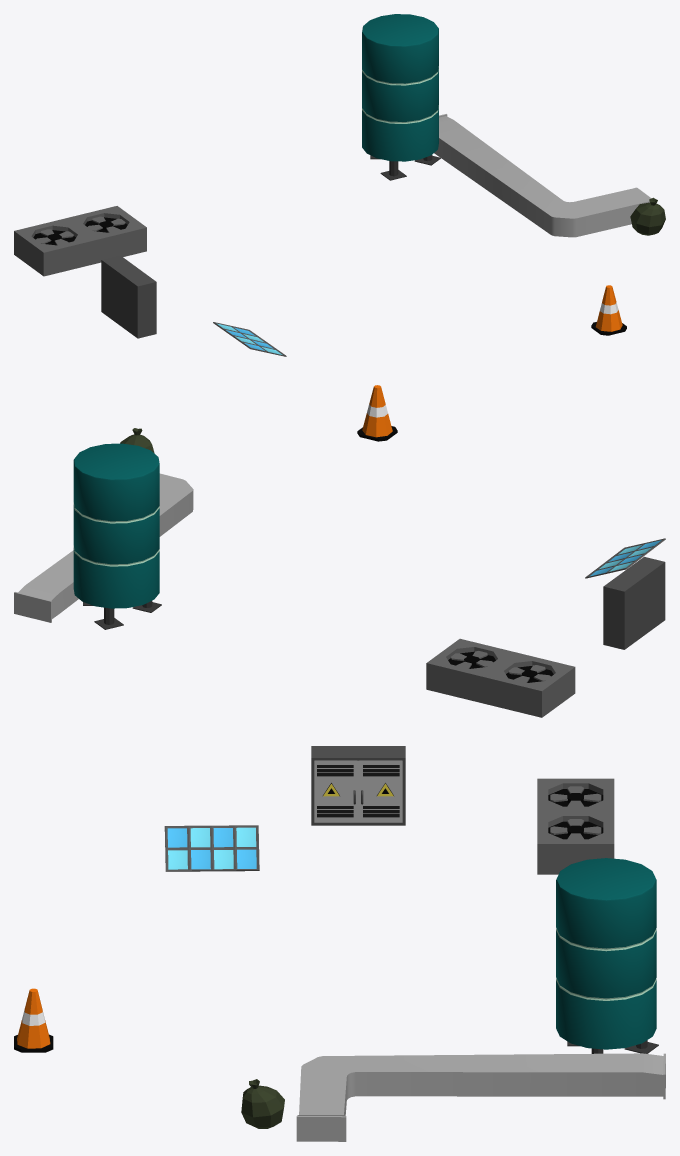
File: Asset.fbx
3 views of the same model, one above another, from view 1: azimuth 30°, elevation 25°; view 2: azimuth 150°, elevation 25°; view 3: azimuth 270°, elevation 25° (orthographic). The views are drawn at different scales.
Visible parts, largest first — view 1: Asset7, Asset1, Asset2, Asset3, Asset6, Asset5, Asset4; view 2: Asset7, Asset2, Asset3, Asset1, Asset6, Asset4; view 3: Asset7, Asset1, Asset3, Asset2, Asset4, Asset5, Asset6.
Part boxes in pixels (box(x1,y1,x2,y2)): Asset7: box(362, 14, 440, 180); Asset1: box(434, 114, 651, 237); Asset2: box(14, 206, 146, 276); Asset3: box(101, 255, 156, 338); Asset6: box(591, 285, 626, 335); Asset5: box(630, 197, 665, 235); Asset4: box(213, 322, 286, 356); Asset7: box(73, 443, 161, 629); Asset2: box(426, 638, 575, 717); Asset3: box(603, 556, 665, 649); Asset1: box(14, 473, 193, 622); Asset6: box(357, 385, 397, 441); Asset4: box(585, 538, 665, 578); Asset7: box(556, 858, 658, 1053); Asset1: box(296, 1053, 665, 1141); Asset3: box(311, 746, 405, 825); Asset2: box(537, 778, 614, 874); Asset4: box(164, 825, 259, 871); Asset5: box(241, 1079, 284, 1128); Asset6: box(14, 988, 53, 1052).
Bounding box in the file's own units: 1498 × 376 × 1256.
